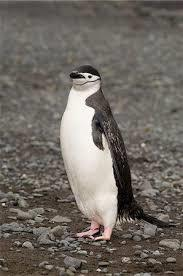chinstrap: (44, 50, 174, 252)
